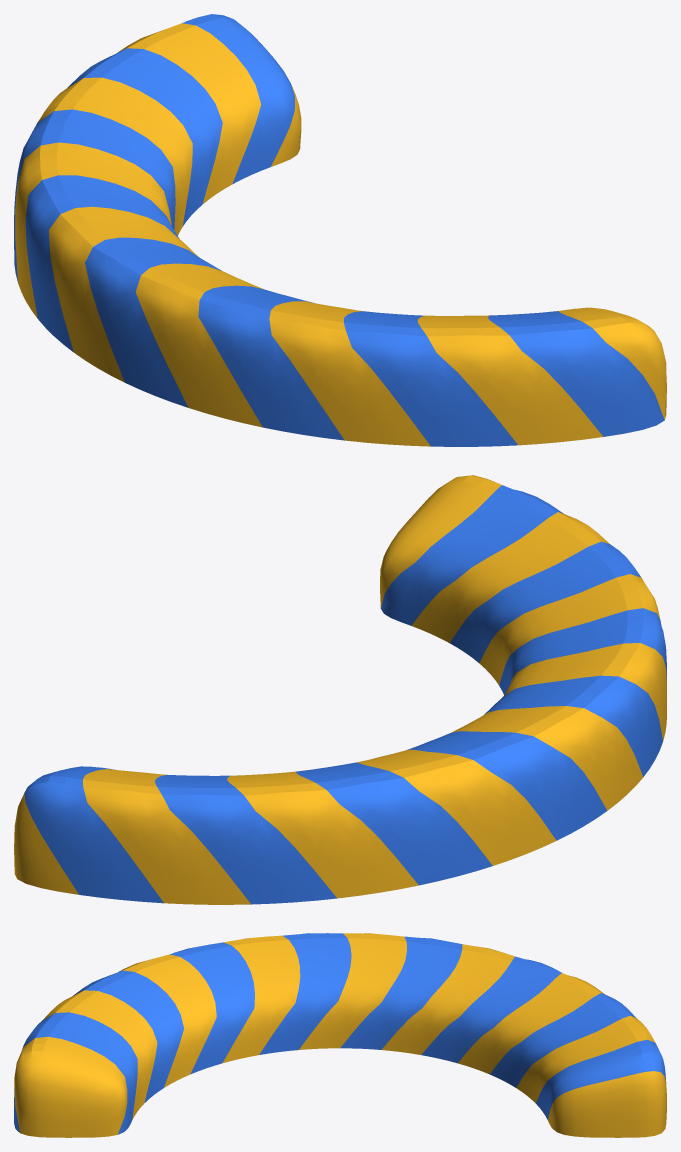
Rendered from berm.glb.
The picture shows the model from 3 angles, top to bottom: view 1: azimuth 30°, elevation 25°; view 2: azimuth 150°, elevation 25°; view 3: azimuth 270°, elevation 25°; orthographic projection. The views are drawn at different scales.
Visible parts, largest first — view 1: Cylinder.412; view 2: Cylinder.412; view 3: Cylinder.412.
Part boxes in pixels (x1,y1,x2,y2): Cylinder.412: (14,14,666,446); Cylinder.412: (14,475,666,904); Cylinder.412: (14,933,666,1137).
Size of the model in its own units: 7.95 by 1.98 by 15.79.
1 material, 1 textured.
